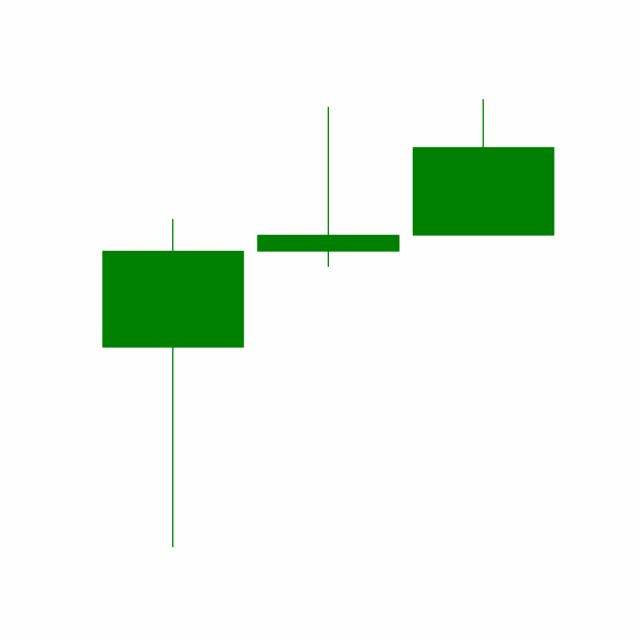Gravestone Doji: (249, 104, 406, 269)
